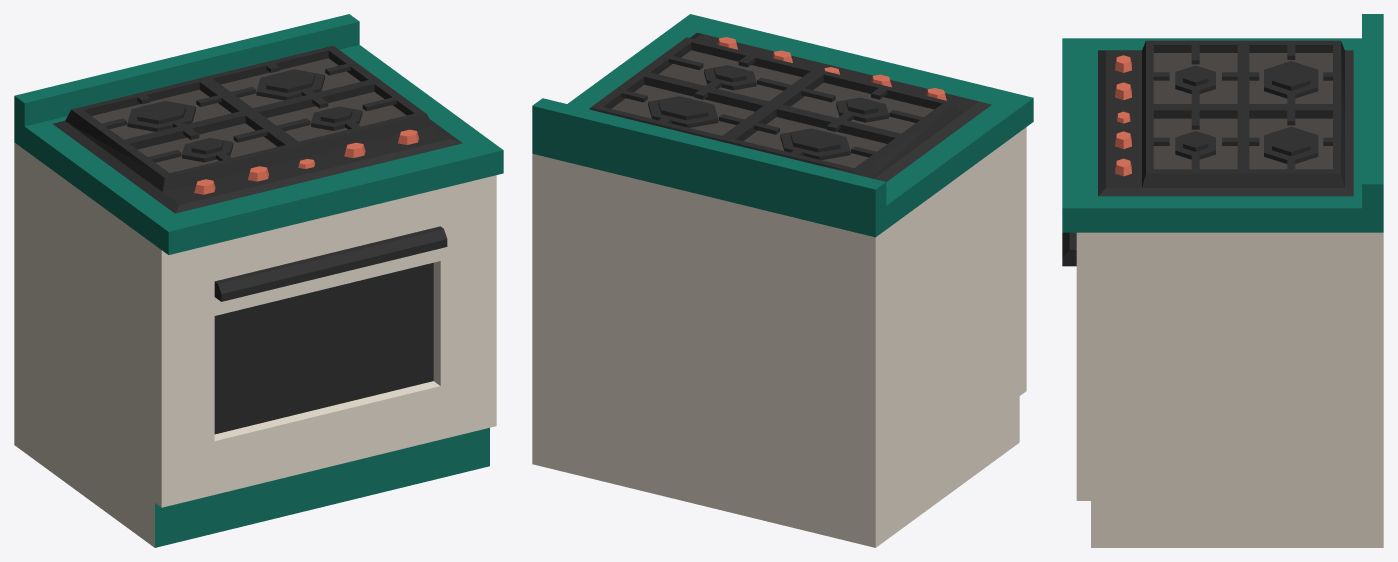
The model's file is stove.glb.
The picture shows the model from 3 angles, left to right: view 1: azimuth 30°, elevation 25°; view 2: azimuth 150°, elevation 25°; view 3: azimuth 270°, elevation 25°; orthographic projection. The views are drawn at different scales.
Visible parts, largest first — view 1: stove; view 2: stove; view 3: stove.
Part boxes in pixels (x1,y1,x2,y2): stove: (14,14,503,547); stove: (532,14,1033,547); stove: (1062,14,1383,547).
Bounding box in the file's own units: 0.903 × 0.9 × 0.72.
